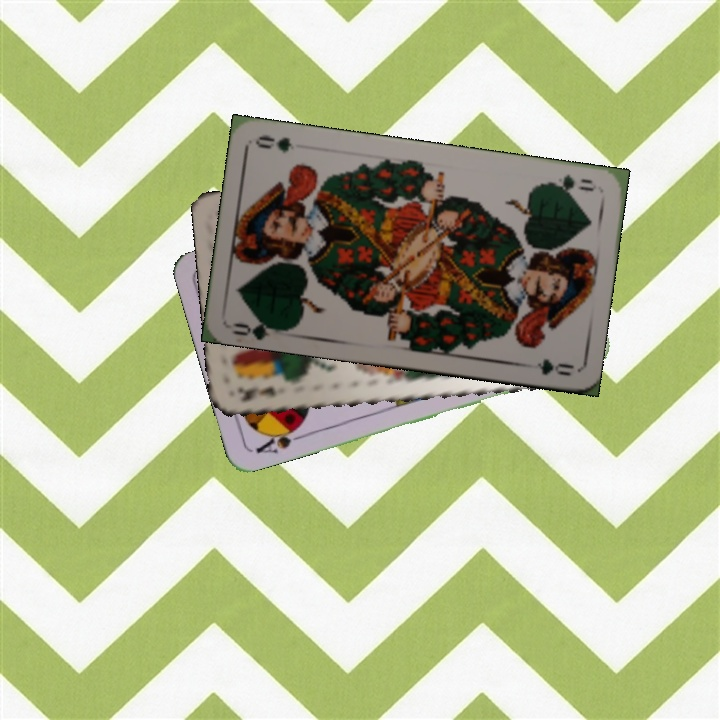EK: (233, 382, 280, 405)
GO: (229, 312, 288, 341), (541, 170, 596, 196)
SA: (251, 420, 308, 457)
